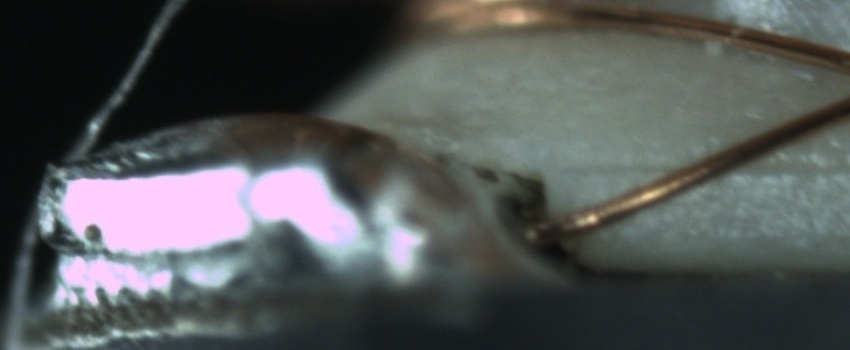DL: (573, 135, 847, 195)
